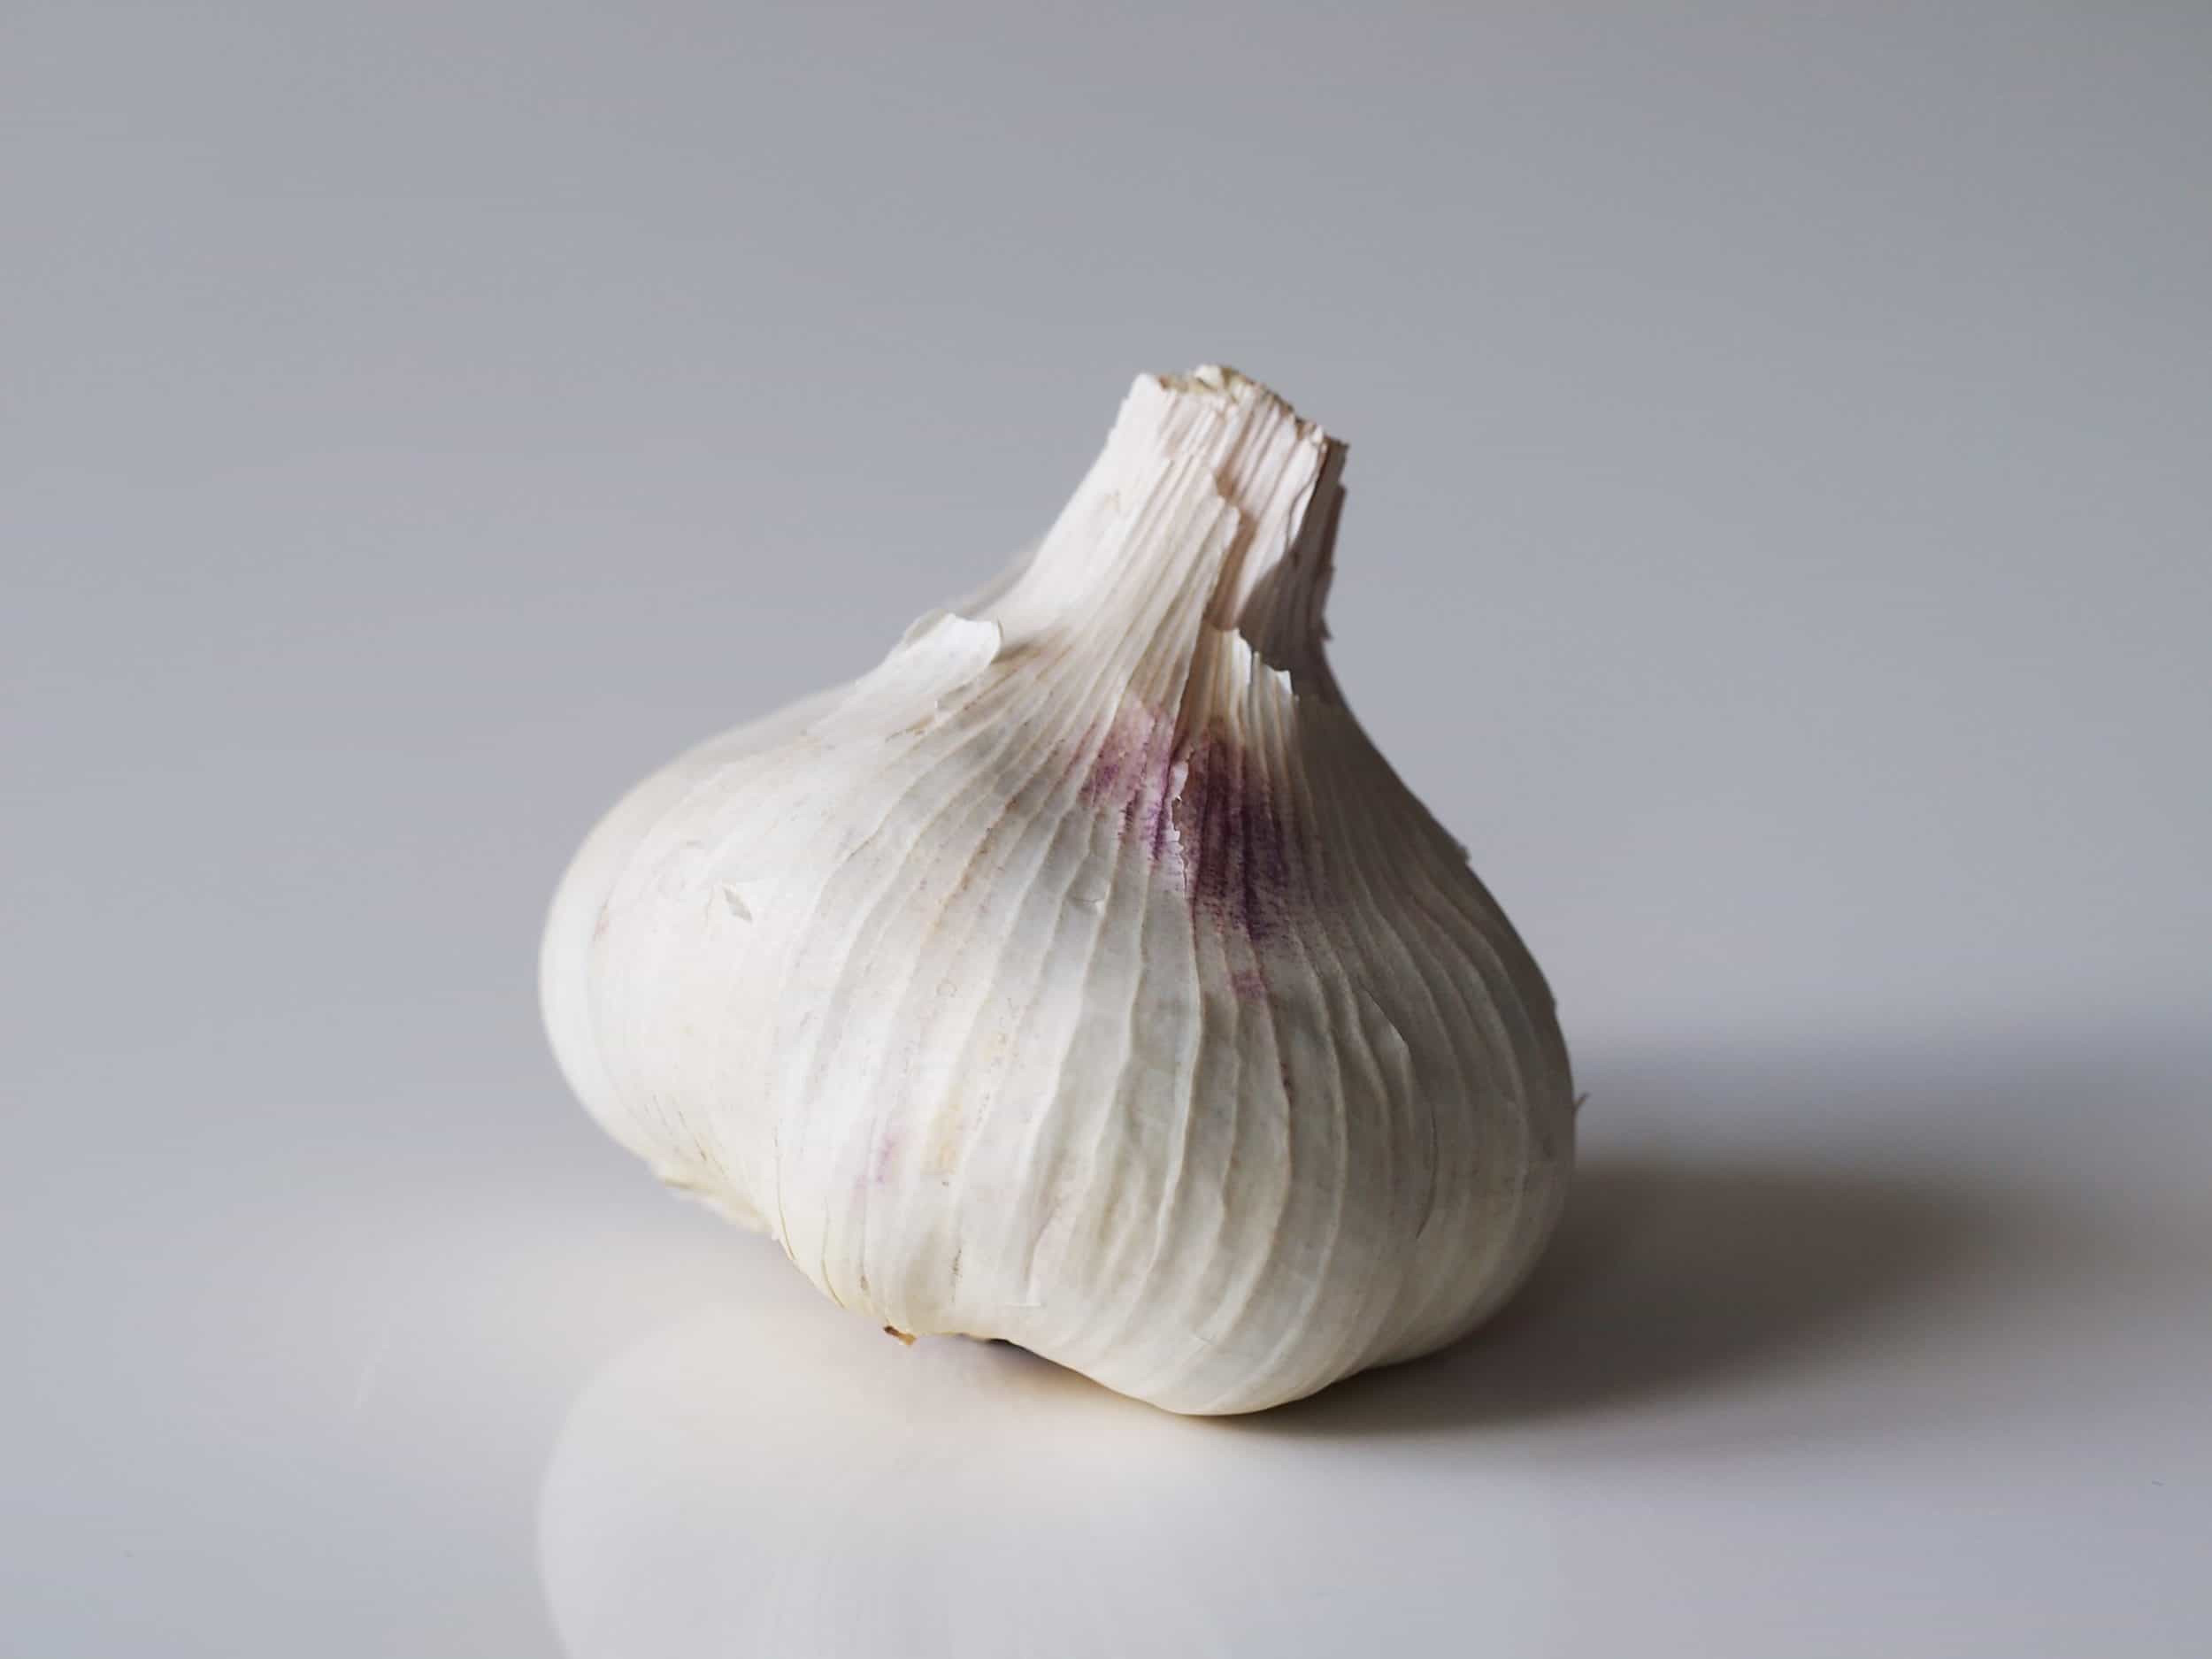garlic: (523, 354, 1590, 1436)
